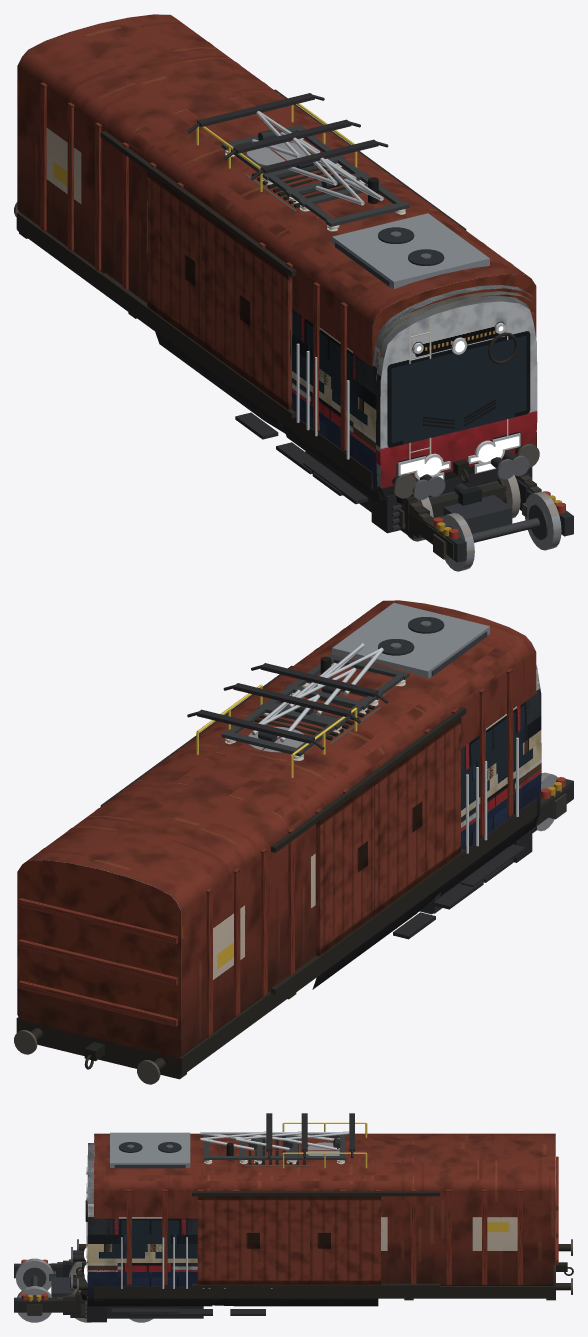
Rendered from trains.glb.
The picture shows the model from 3 angles, top to bottom: view 1: azimuth 30°, elevation 25°; view 2: azimuth 150°, elevation 25°; view 3: azimuth 270°, elevation 25°; orthographic projection. The views are drawn at different scales.
Visible parts, largest first — view 1: freight:boxcar, metro:cab, freight:boxcarShort, metro:bayW, regional:cab, bogie:passenger, express:cab, littorina:cab, freight:tank, bogie:freight, metro:bayD, express:bayD (+6 smaller); view 2: freight:boxcar, freight:boxcarShort, metro:bayW, freight:tank, express:cab, metro:cab, regional:cab, metro:bayD, express:bayD, littorina:cab, littorina:bayW, littorina:bayD (+5 smaller); view 3: freight:boxcar, freight:boxcarShort, metro:bayW, express:bayD, express:cab, freight:tank, metro:cab, bogie:passenger, metro:bayD, regional:cab, littorina:bayW, express:bayW (+7 smaller).
Boxes of the visible parts, box(x1,y1,x2,y2) form: freight:boxcar: box(14, 14, 536, 492); metro:cab: box(251, 139, 537, 533); freight:boxcarShort: box(127, 94, 539, 498); metro:bayW: box(332, 213, 531, 499); regional:cab: box(223, 119, 529, 505); bogie:passenger: box(396, 475, 573, 571); express:cab: box(155, 93, 495, 505); littorina:cab: box(245, 165, 516, 518); freight:tank: box(14, 103, 530, 490); bogie:freight: box(400, 483, 561, 570); metro:bayD: box(292, 284, 521, 512); express:bayD: box(282, 286, 512, 511); freight:boxcar: box(14, 600, 536, 1084); freight:boxcarShort: box(137, 600, 536, 999); metro:bayW: box(332, 603, 541, 788); freight:tank: box(14, 684, 536, 1084); express:cab: box(187, 689, 442, 989); metro:cab: box(251, 643, 532, 894); regional:cab: box(223, 663, 487, 904); metro:bayD: box(447, 673, 541, 891); express:bayD: box(441, 715, 541, 891); littorina:cab: box(254, 656, 476, 909); littorina:bayW: box(461, 742, 541, 849); littorina:bayD: box(456, 730, 541, 885); freight:boxcar: box(76, 1133, 573, 1300); freight:boxcarShort: box(76, 1133, 413, 1300); metro:bayW: box(88, 1132, 190, 1271); express:bayD: box(88, 1143, 212, 1318); express:cab: box(70, 1113, 378, 1315); freight:tank: box(77, 1122, 573, 1300); metro:cab: box(85, 1113, 272, 1322); bogie:passenger: box(14, 1259, 152, 1322); metro:bayD: box(88, 1143, 197, 1318); regional:cab: box(70, 1113, 307, 1315); littorina:bayW: box(88, 1252, 197, 1318); express:bayW: box(88, 1145, 212, 1306).
Bounding box in the file's own units: 2.22 × 3.28 × 9.46.
Materials: 8 (5 with a texture image).
